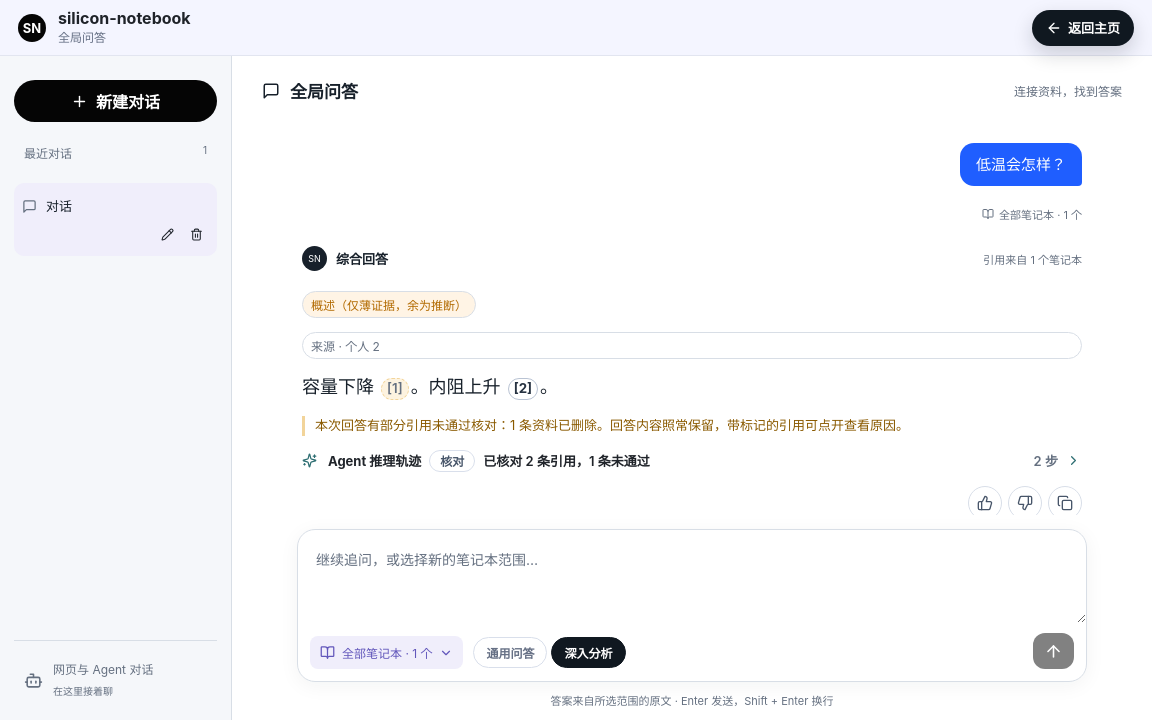
Test: reopening the conversation after a reload keeps the notice and the flags
Expected: the text "容量下降 [1] 。内阻上升 [2] 。" is shown, [302,376,558,400]
Click the button named "[1] 未通过核对：资料已删除" at (395, 389), box [381,378,409,400]
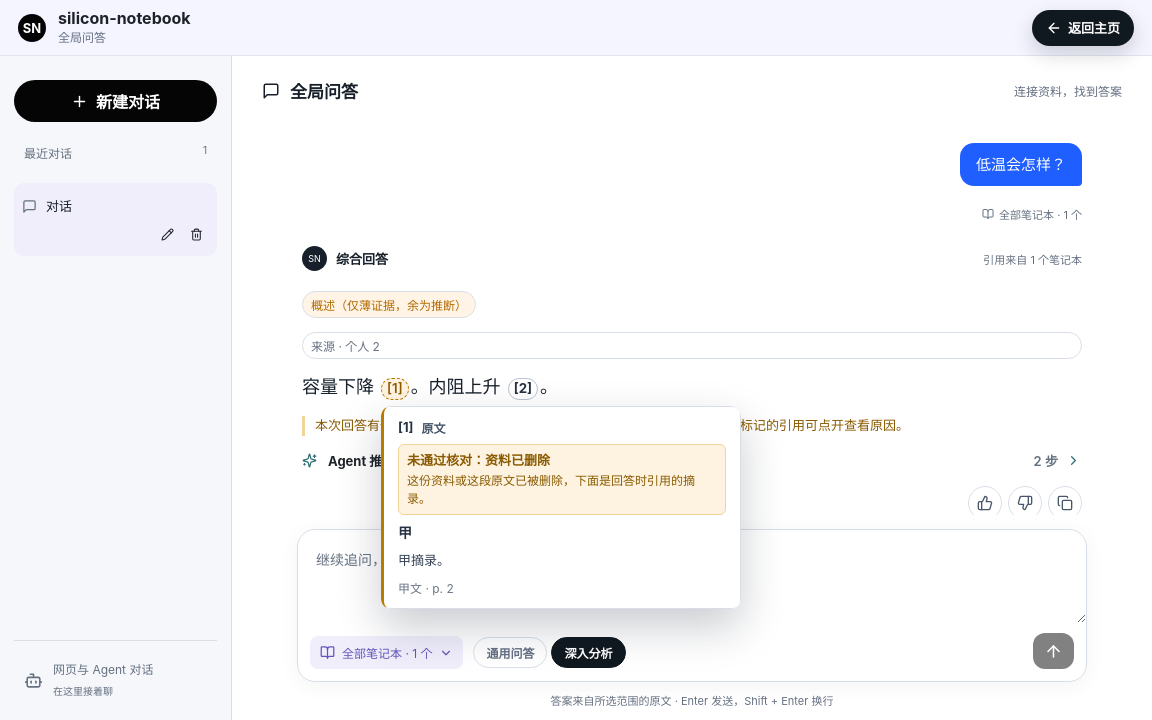
Now the element showing "未通过核对：资料已删除 这份资料或这段原文已被删除，下面是回答时引用的摘录。" is shown, box [398,444,726,515]
Now the dialog shows "甲摘录。", box [398,552,450,568]
